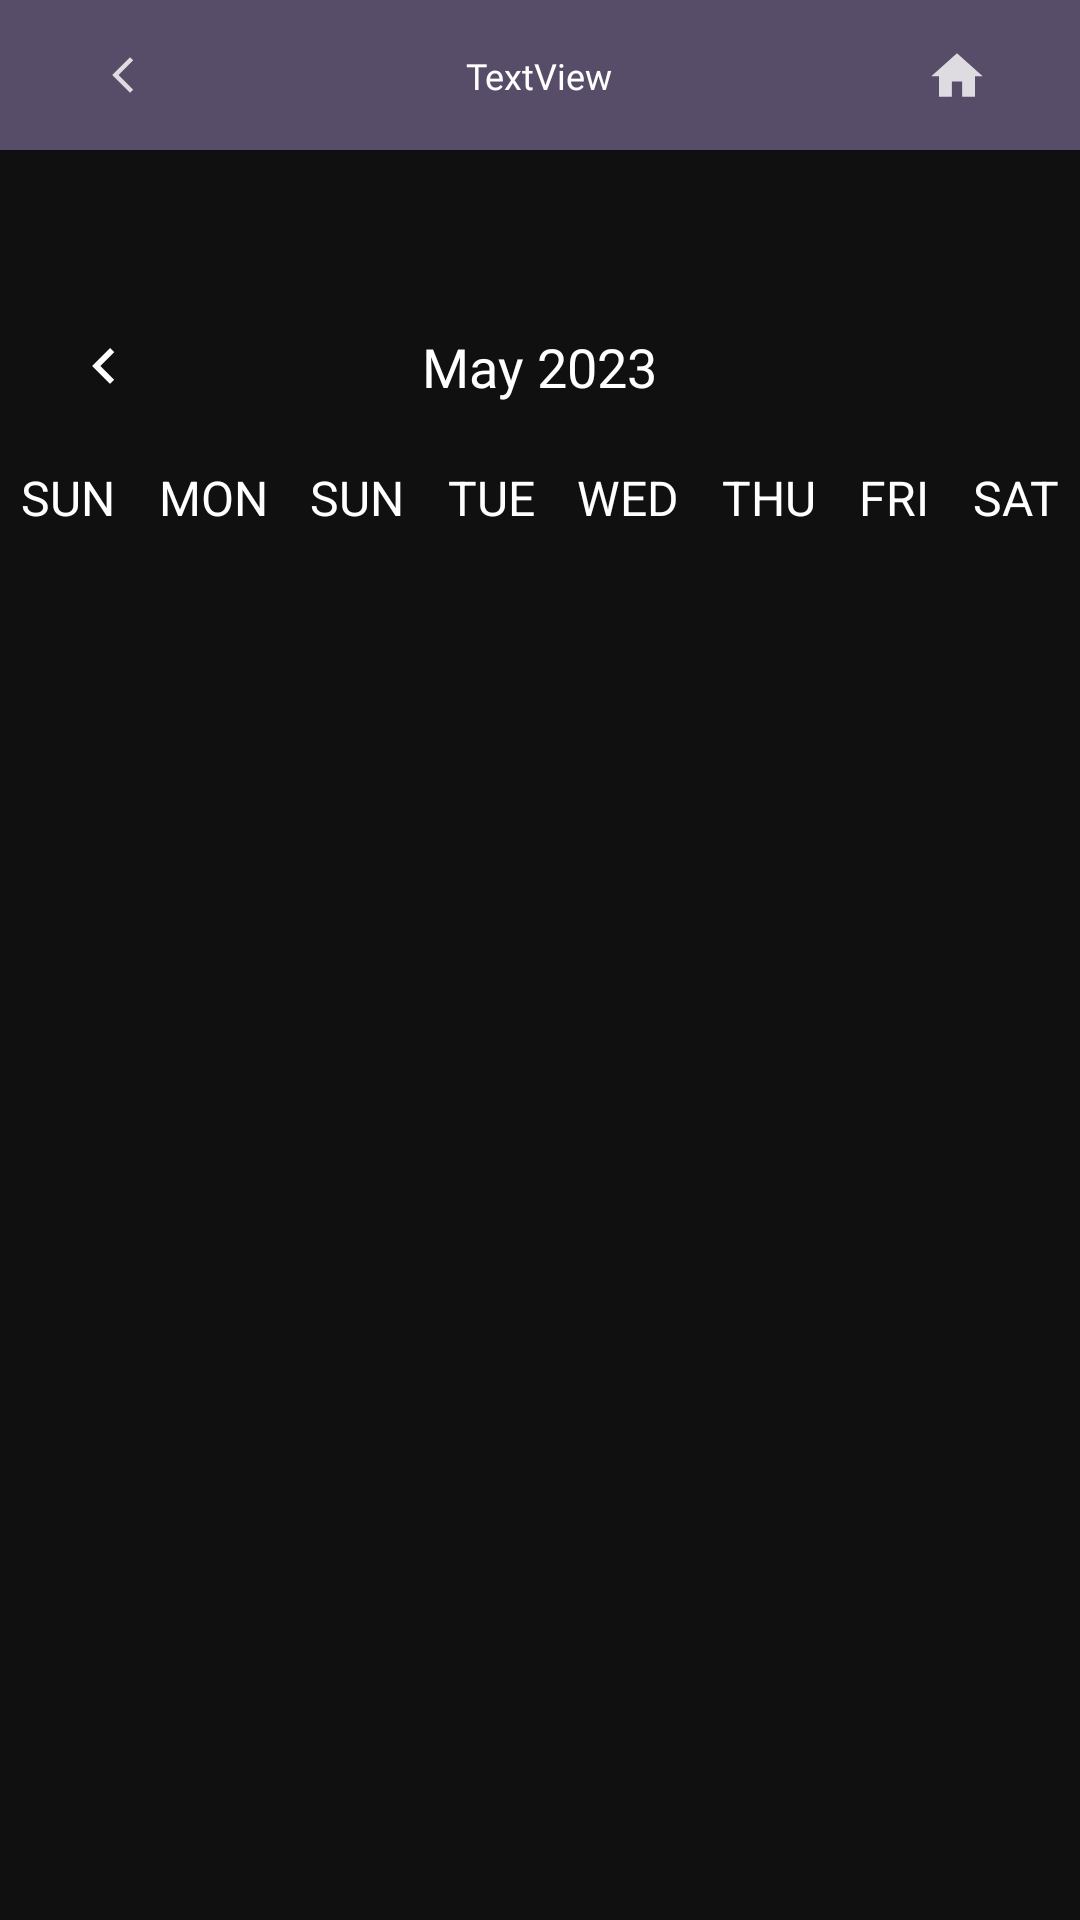

Icons on this 1080 × 1920 Android screen, each with the point to tap as point (x, y):
arrowleft: point (103, 366)
back arrow: point (122, 75)
home: point (957, 75)
